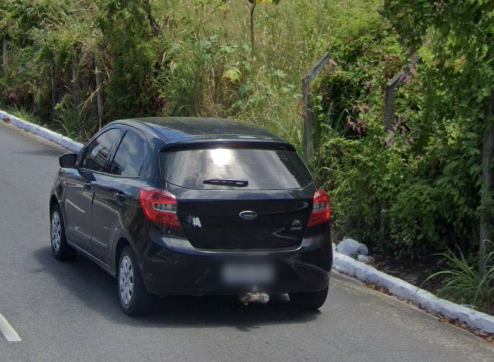car: (45, 112, 337, 320)
